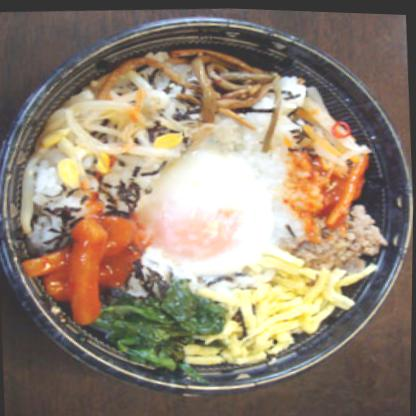bibimbap: (5, 28, 408, 380)
